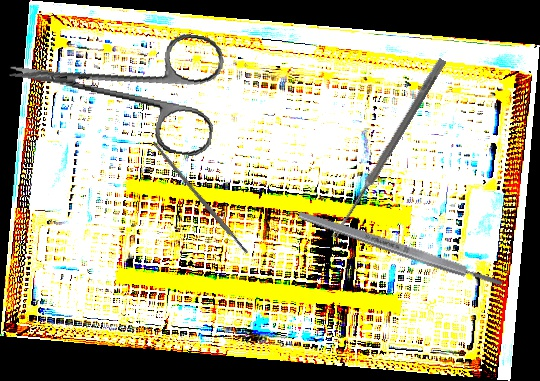Iris Scissors: (0, 7, 228, 159)
Scalpel Handle: (297, 208, 504, 290), (150, 140, 250, 256)
Surgical Spoon: (330, 56, 447, 242)
